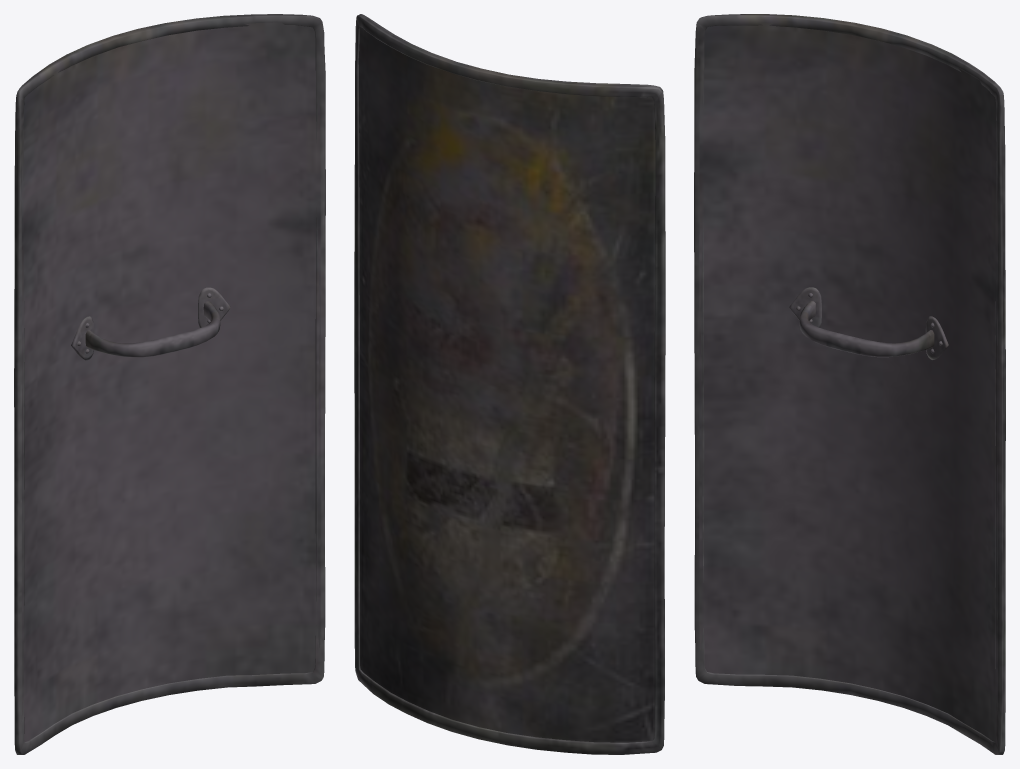
The model's file is weapon-wp_a_2208.glb.
3 views of the same model, side by side, from view 1: azimuth 30°, elevation 25°; view 2: azimuth 150°, elevation 25°; view 3: azimuth 330°, elevation 25° (orthographic).
Visible parts, largest first — view 1: wp_a_2208_mesh; view 2: wp_a_2208_mesh; view 3: wp_a_2208_mesh.
Part boxes in pixels (x1,y1,x2,y2): wp_a_2208_mesh: (14, 14, 325, 754); wp_a_2208_mesh: (354, 14, 665, 754); wp_a_2208_mesh: (694, 14, 1005, 754).
Bounding box in the file's own units: 0.6047 × 1.24 × 0.1322.
Materials: 1 (1 with a texture image).
